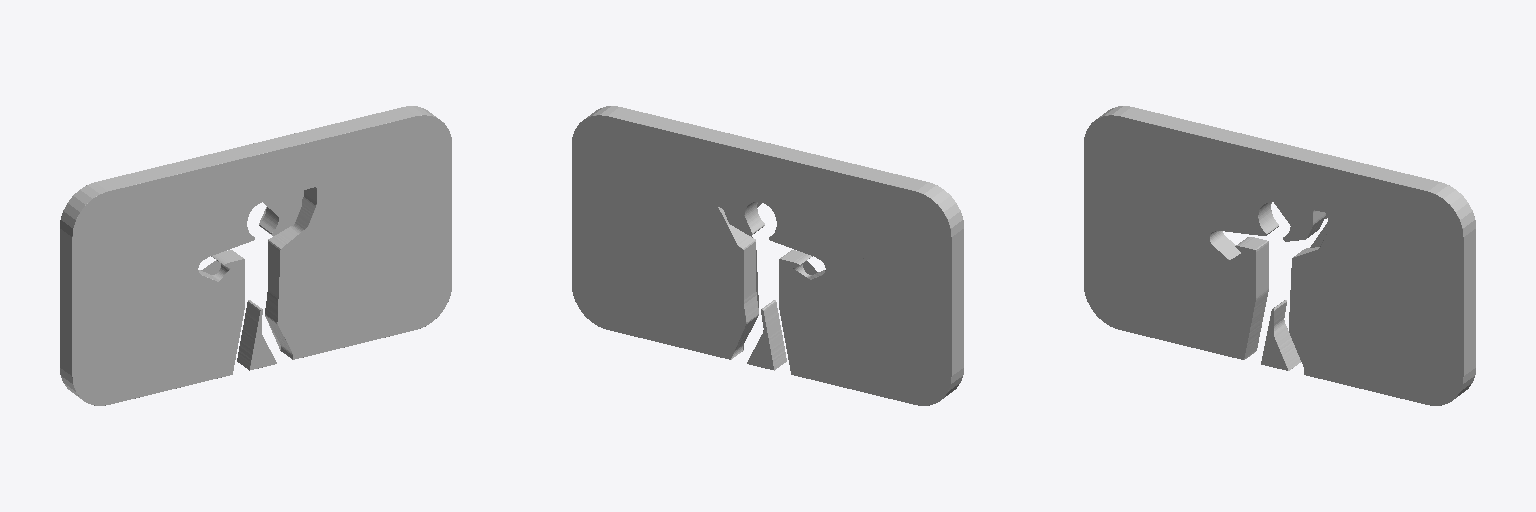
3 renders of one model, left to right at view 1: azimuth 30°, elevation 25°; view 2: azimuth 150°, elevation 25°; view 3: azimuth 330°, elevation 25°, orthographic.
Parts seen in each view (by area): view 1: POSE22; view 2: POSE22; view 3: POSE22.
Part boxes in pixels (x1,y1,x2,y2): POSE22: (60,106,451,405); POSE22: (572,106,963,405); POSE22: (1084,106,1475,405).
Size of the model in its own units: 12 by 6.45 by 0.7.